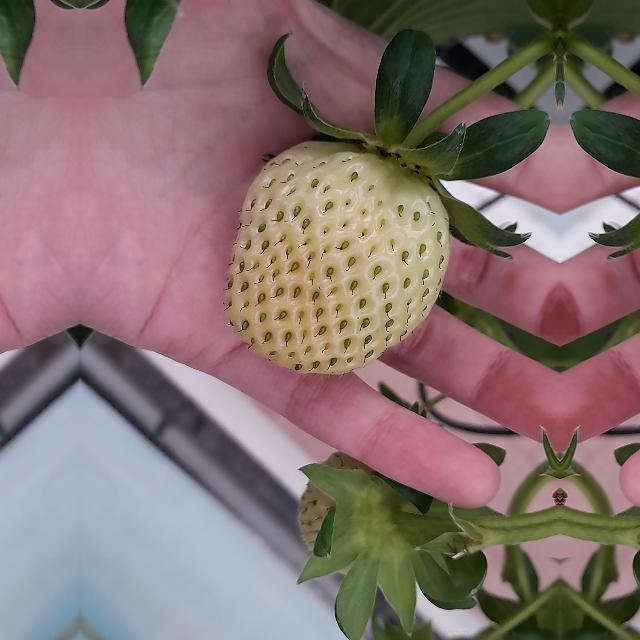Health_50: (222, 140, 450, 374)
